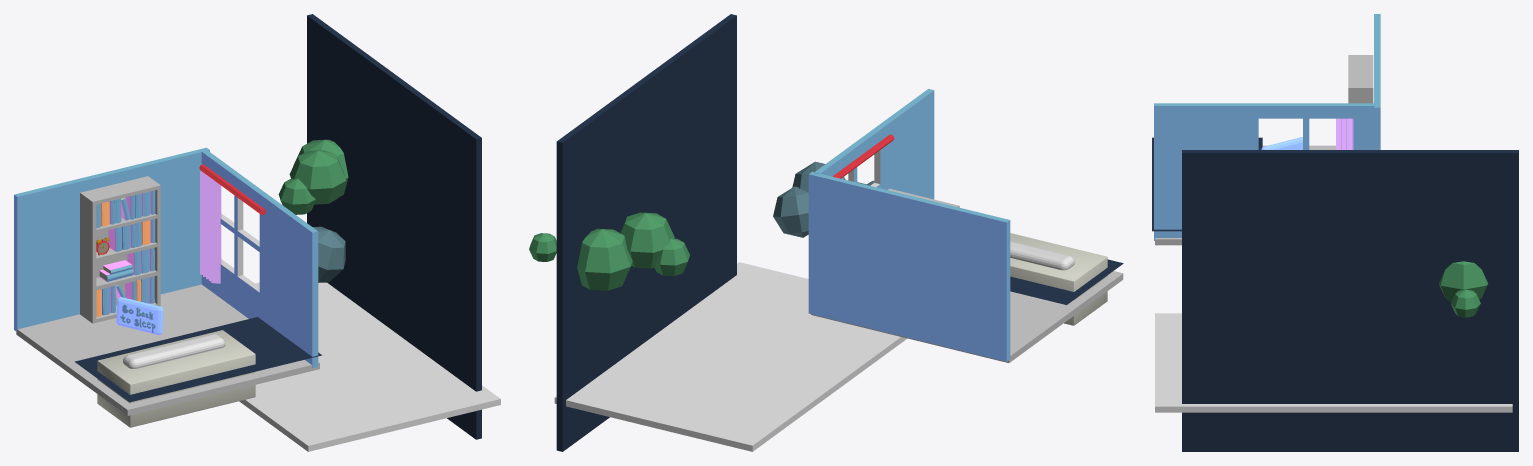
The model's file is FD_endpage_AD.fbx.
The picture shows the model from 3 angles, left to right: view 1: azimuth 30°, elevation 25°; view 2: azimuth 150°, elevation 25°; view 3: azimuth 270°, elevation 25°; orthographic projection. The views are drawn at different scales.
Parts seen in each view (by area): view 1: Cube_2, Cube_3_2, Cube_1, Cube_2_2, Cube, bed, Cube_5, Plane, 球体_4, Cube_4, 球体_1_2, Cube_11 (+4 smaller); view 2: Cube_2, Cube_3_2, Cube_1, Cube_2_2, Cube, bed, 球体_2, 球体_4, 球体_4_3, Plane, Cube_4, 球体 (+1 smaller); view 3: Cube_2, Cube_2_2, Cube_3_2, 球体_2, Cube_5, Cube_1, 球体_3.
Boxes of the visible parts, box(x1,y1,x2,y2) form: Cube_2: box(307, 14, 481, 439); Cube_3_2: box(239, 282, 500, 451); Cube_1: box(14, 147, 209, 331); Cube_2_2: box(201, 150, 318, 368); Cube: box(16, 284, 319, 415); bed: box(97, 330, 255, 427); Cube_5: box(80, 176, 160, 323); Plane: box(75, 317, 321, 402); 球体_4: box(289, 150, 346, 204); Cube_4: box(123, 334, 225, 368); 球体_1_2: box(313, 226, 345, 282); Cube_11: box(116, 297, 163, 334); Cube_2: box(556, 14, 736, 451); Cube_3_2: box(554, 262, 907, 451); Cube_1: box(808, 171, 1010, 361); Cube_2_2: box(814, 89, 934, 199); Cube: box(811, 271, 1123, 362); bed: box(1010, 233, 1107, 325); 球体_2: box(577, 228, 632, 290); 球体_4: box(620, 212, 674, 268); 球体_4_3: box(773, 186, 808, 237); Plane: box(1010, 259, 1123, 304); Cube_4: box(1010, 241, 1074, 270); 球体: box(654, 238, 689, 276); Cube_2: box(1182, 150, 1518, 451); Cube_2_2: box(1154, 103, 1375, 240); Cube_3_2: box(1155, 313, 1512, 412); 球体_2: box(1439, 261, 1488, 302); Cube_5: box(1348, 55, 1373, 103); Cube_1: box(1374, 14, 1380, 149); 球体_3: box(1451, 289, 1480, 317).
Bounding box in the file's own units: 218 × 149 × 166.
